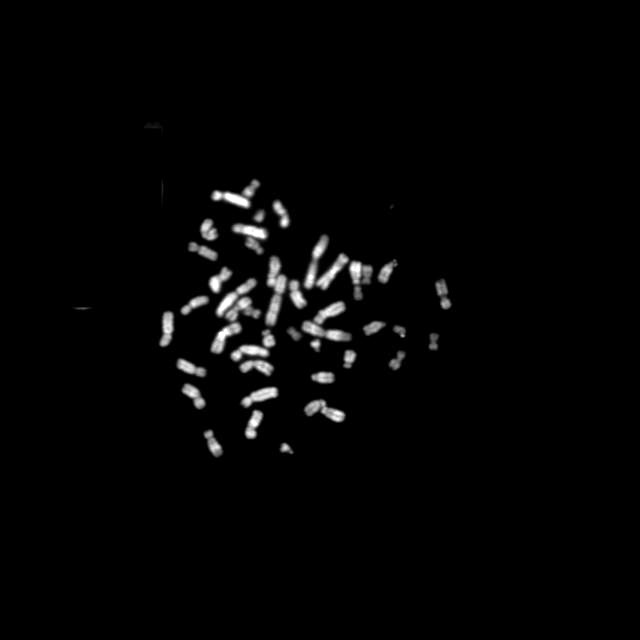chromosome: (216, 280, 256, 316), (304, 234, 328, 288), (317, 252, 349, 290), (266, 275, 286, 325), (303, 322, 352, 341), (212, 323, 243, 353), (241, 387, 277, 407), (315, 302, 345, 324), (210, 192, 250, 208), (231, 345, 269, 361), (225, 297, 250, 321), (181, 385, 205, 409), (209, 266, 231, 292), (241, 359, 274, 376), (232, 224, 266, 240), (178, 356, 205, 376), (188, 242, 217, 260), (204, 429, 222, 457), (245, 410, 263, 438), (435, 279, 451, 309), (378, 260, 398, 284), (289, 281, 306, 309), (182, 296, 208, 314), (161, 312, 174, 346), (274, 200, 288, 228), (268, 256, 280, 286), (202, 218, 218, 240), (304, 399, 326, 415), (322, 406, 344, 422), (364, 320, 386, 336), (348, 260, 362, 284), (242, 179, 260, 197), (246, 237, 264, 255), (389, 351, 405, 371), (312, 371, 334, 384), (262, 329, 276, 346), (244, 306, 260, 320), (344, 350, 356, 368), (363, 265, 373, 285), (288, 328, 302, 340), (281, 442, 294, 454), (310, 340, 322, 352), (429, 334, 437, 351), (253, 210, 264, 222), (353, 286, 362, 300), (394, 326, 404, 338)
